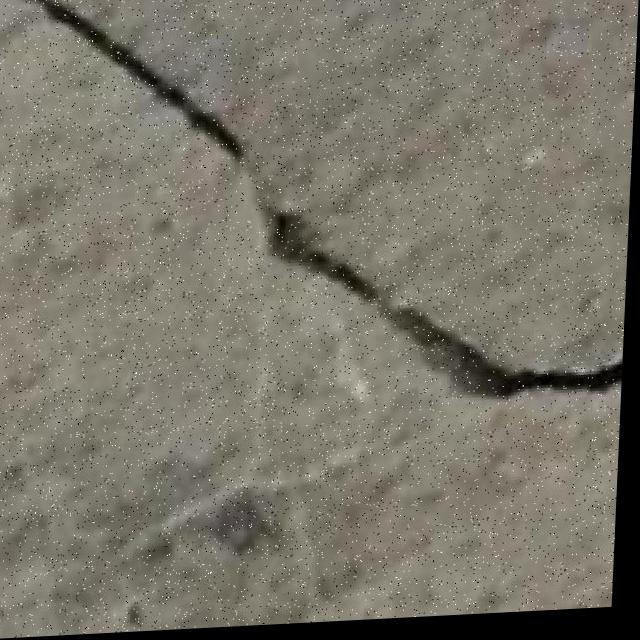Crack: (15, 0, 640, 447)
